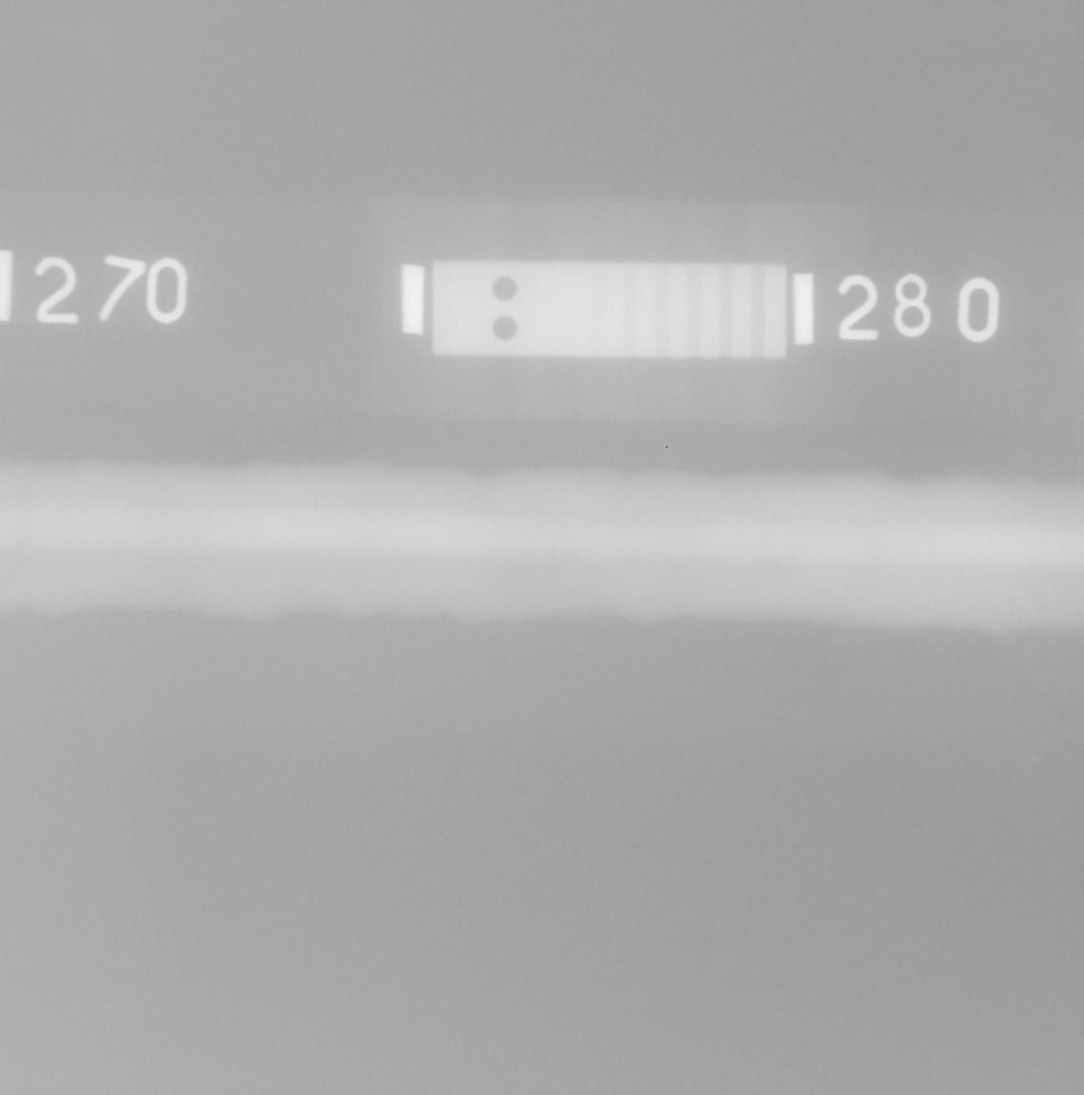Reference Standard 2: (433, 260, 787, 360)
